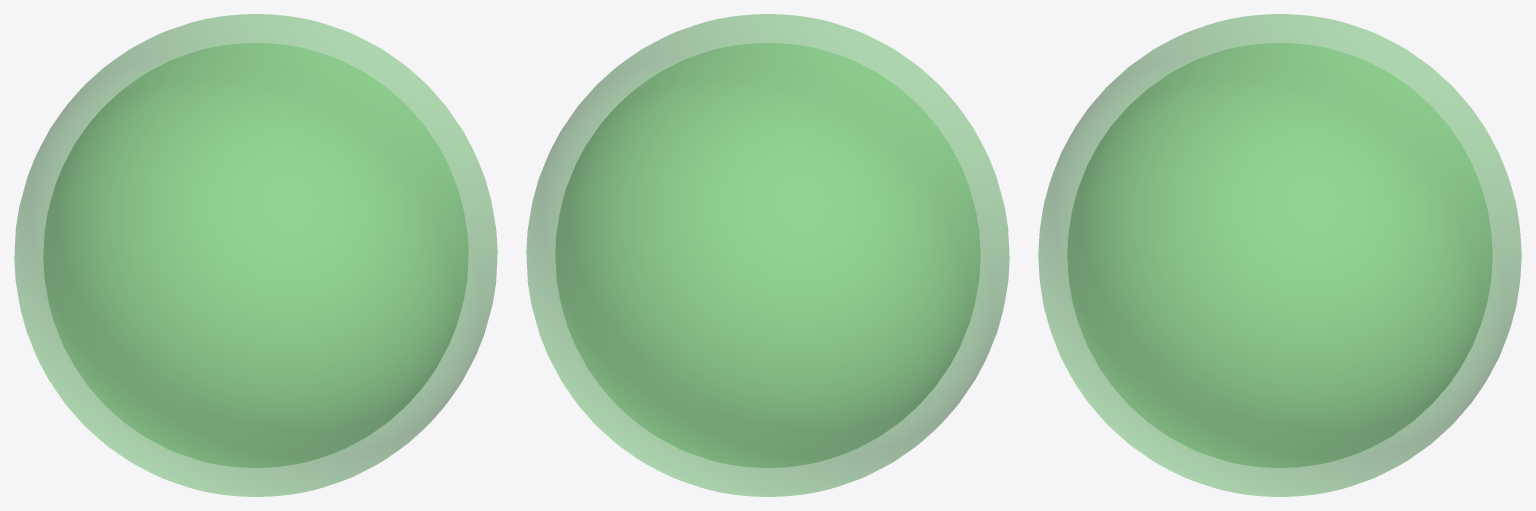
File: SphericalShell.fbx
3 views of the same model, side by side, from view 1: azimuth 30°, elevation 25°; view 2: azimuth 150°, elevation 25°; view 3: azimuth 270°, elevation 25° (orthographic).
Parts seen in each view (by area): view 1: SphericalShell; view 2: SphericalShell; view 3: SphericalShell.
Part boxes in pixels (x1,y1,x2,y2): SphericalShell: (14, 14, 497, 496); SphericalShell: (526, 14, 1009, 496); SphericalShell: (1038, 14, 1521, 496).
Size of the model in its own units: 100 by 100 by 100.
